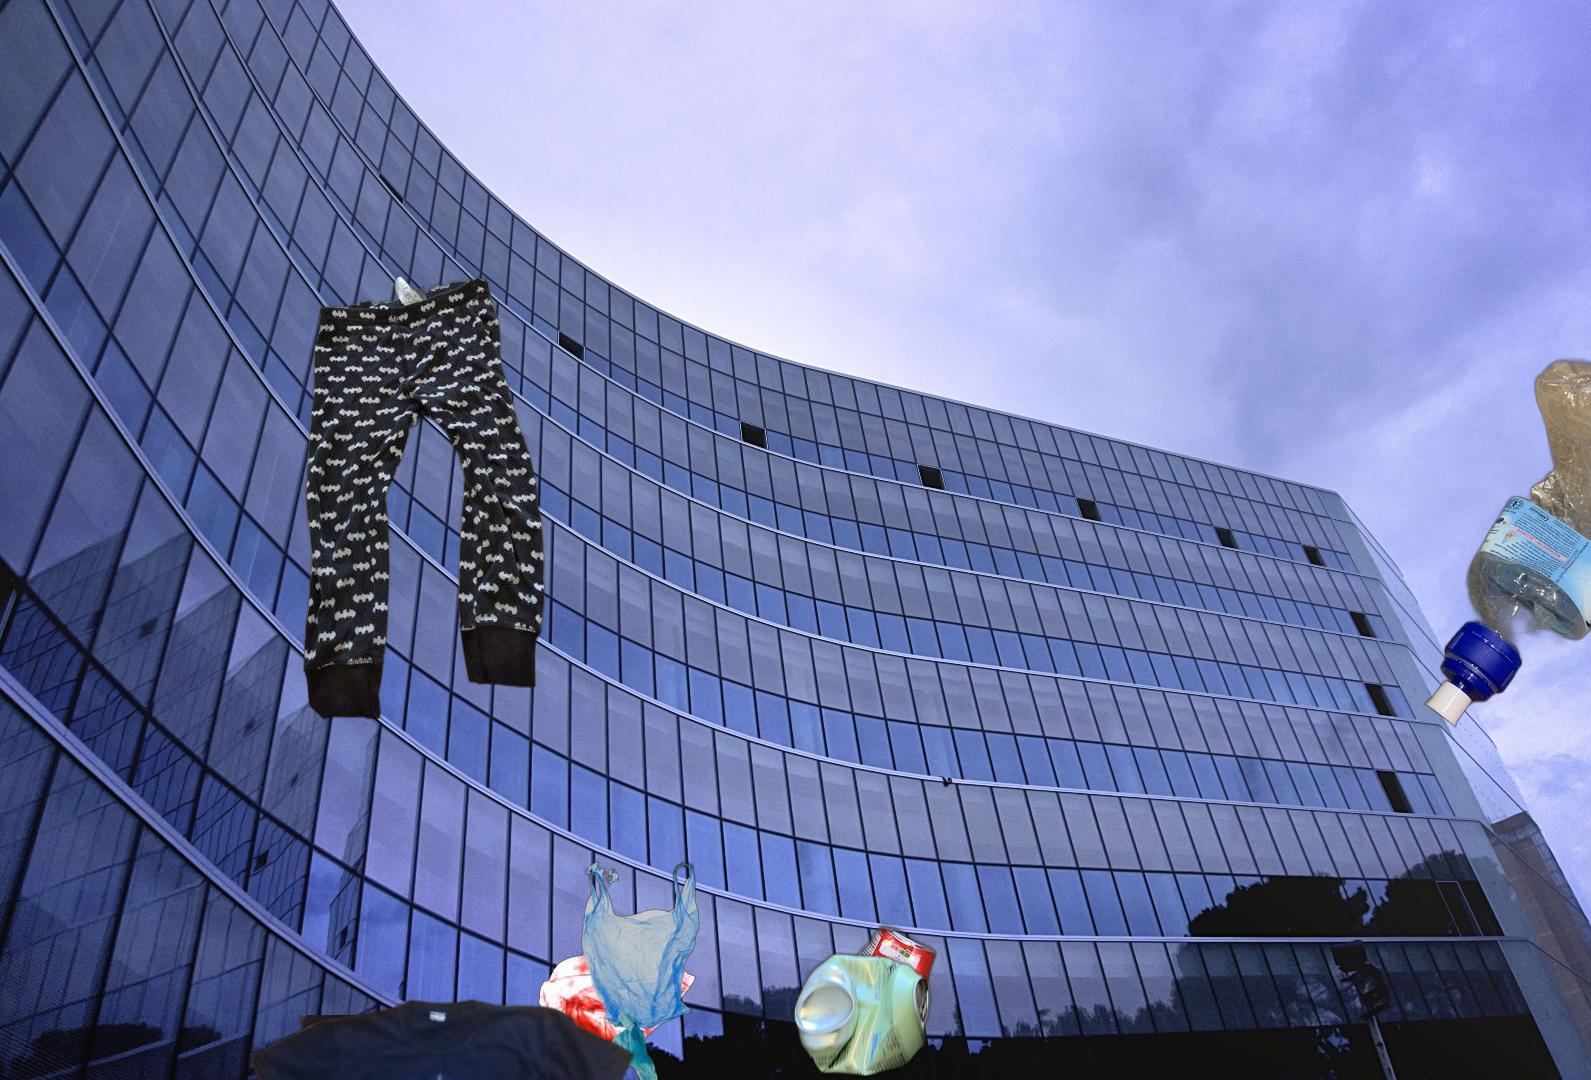clothes: (300, 272, 548, 723), (246, 997, 638, 1080)
metal-cans: (812, 920, 940, 1080), (789, 947, 937, 1080)
penholder: (294, 1015, 894, 1080)
plastic-bag: (528, 858, 701, 1080)
plastic-bottles: (1422, 354, 1591, 732)
